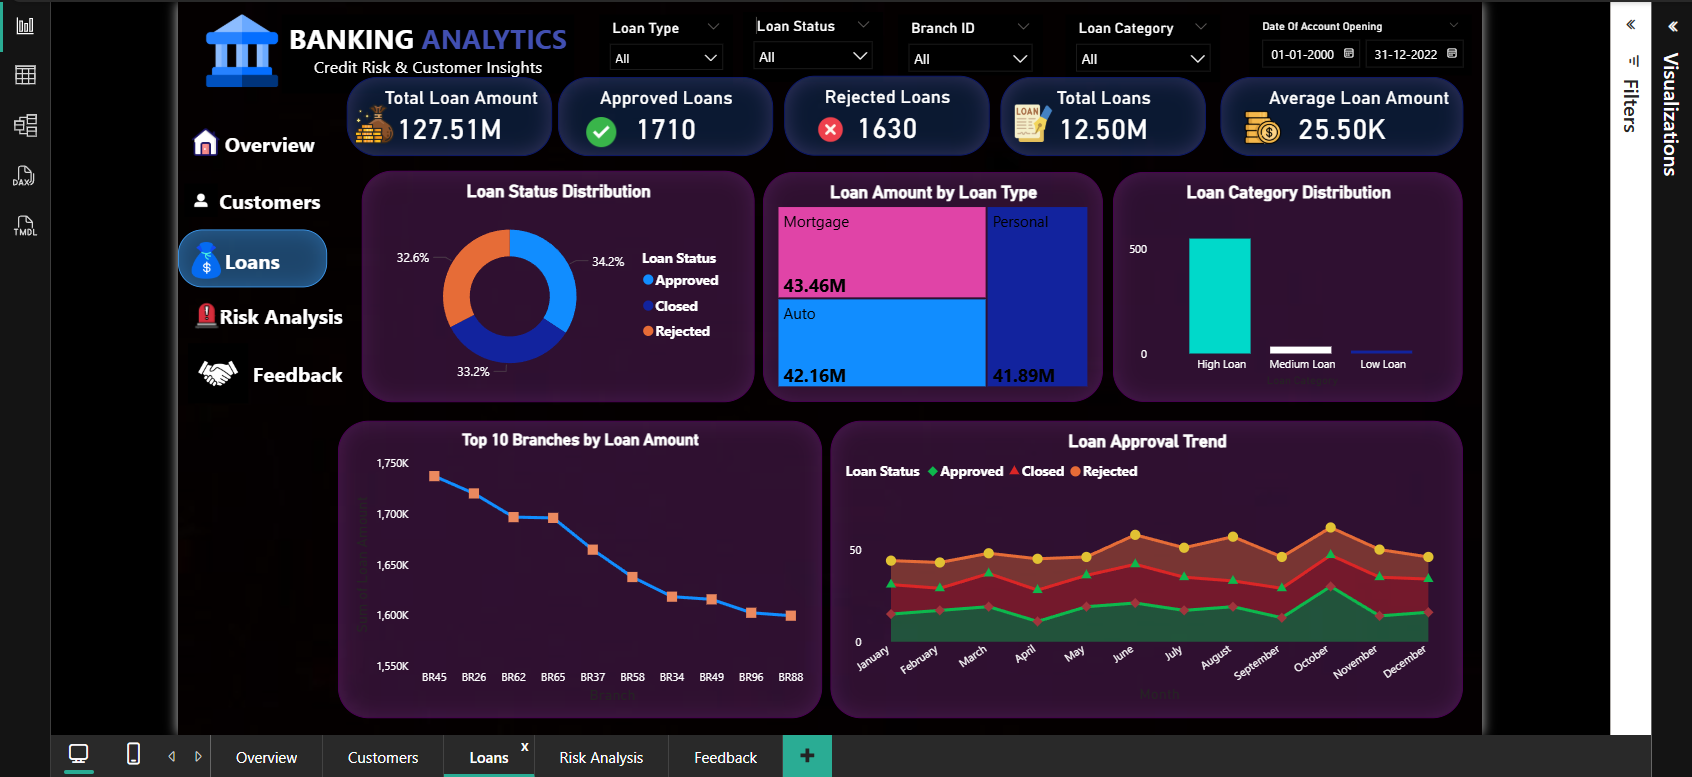

The page's visual inventory and layout, read from the dashboard file:
{"tool":"powerbi","page":{"name":"Loans","canvas":[1280,720],"ordinal":2},"visuals":[{"type":"textbox","box":[101.8,12.3,287.1,77.3],"z":0},{"type":"actionButton","box":[0,110.4,180.4,56.4],"z":1000},{"type":"actionButton","box":[0,336.2,165.6,56.4],"z":2000},{"type":"actionButton","box":[0,279.8,165.6,56.4],"z":3000},{"type":"actionButton","box":[0,223.3,146,56.4],"z":4000},{"type":"actionButton","box":[0,166.9,180.4,56.4],"z":5000},{"type":"image","box":[23.3,12.3,78.5,71.2],"z":6000},{"type":"image","box":[0,123.9,54,27],"z":7000},{"type":"image","box":[6.1,171.8,33.1,45.4],"z":8000},{"type":"image","box":[6.1,234.4,42.9,38],"z":9000},{"type":"image","box":[11,292,34.4,30.7],"z":10000},{"type":"image","box":[9.8,330.1,58.9,68.7],"z":11000},{"type":"slicer","fields":{"Values":["Banking_Analysis.Loan Type"]},"box":[413.5,12.3,131.3,68.7],"z":12000},{"type":"slicer","fields":{"Values":["Banking_Analysis.Loan Status"]},"box":[554.6,9.8,137.4,68.7],"z":13000},{"type":"slicer","fields":{"Values":["Banking_Analysis.Loan Category"]},"box":[871.2,12.3,152.1,66.3],"z":14000},{"type":"slicer","fields":{"Values":["Banking_Analysis.Branch ID"]},"box":[706.8,12.3,142.3,60.1],"z":15000},{"type":"slicer","fields":{"Values":["Banking_Analysis.Date Of Account Opening"]},"box":[1051.5,12.3,218.4,60.1],"z":16000},{"type":"card","title":"Total Loans","fields":{"Values":["Banking_Analysis.Total Loans"]},"box":[807.4,73.6,201.2,77.3],"z":17000},{"type":"card","title":"Total Loan Amount","fields":{"Values":["Banking_Analysis.Total Loan Amount"]},"box":[165.6,73.6,201.2,77.3],"z":18000},{"type":"card","title":"Rejected Loans","fields":{"Values":["Banking_Analysis.Rejected Loans"]},"box":[595.1,72.4,201.2,78.5],"z":19000},{"type":"card","title":"Approved Loans","fields":{"Values":["Banking_Analysis.Approved Loans"]},"box":[373,73.6,211,77.3],"z":20000},{"type":"card","title":"Average Loan Amount","fields":{"Values":["Banking_Analysis.Average Loan Amount"]},"box":[1023.3,73.6,238,77.3],"z":21000},{"type":"donutChart","title":"Loan Status Distribution","fields":{"Category":["Banking_Analysis.Loan Status"],"Y":["CountNonNull(Banking_Analysis.Loan ID)"]},"box":[180.4,165.6,385.3,227],"z":22000},{"type":"treemap","title":"Loan Amount by Loan Type","fields":{"Group":["Banking_Analysis.Loan Type"],"Values":["Sum(Banking_Analysis.Loan Amount)"]},"box":[574.2,166.9,333.7,225.8],"z":23000},{"type":"lineChart","title":"Top 10 Branches by Loan Amount","fields":{"Y":["Sum(Banking_Analysis.Loan Amount)"],"Category":["Banking_Analysis.Branch "]},"box":[157.1,411,474.8,292],"z":24000},{"type":"stackedAreaChart","title":"Loan Approval Trend","fields":{"Category":["Banking_Analysis.Approval/Rejection Date.Variation.Date Hierarchy.Month"],"Y":["CountNonNull(Banking_Analysis.Loan ID)"],"Series":["Banking_Analysis.Loan Status"]},"box":[640.5,411,620.9,292],"z":25000},{"type":"columnChart","title":"Loan Category Distribution","fields":{"Category":["Banking_Analysis.Loan Category"],"Y":["CountNonNull(Banking_Analysis.Loan ID)"]},"box":[917.8,166.9,343.6,225.8],"z":26000},{"type":"image","box":[165.6,100.6,54,38],"z":27000},{"type":"image","box":[808.6,100.6,62.6,36.8],"z":28000},{"type":"image","box":[395.1,112.9,40.5,29.4],"z":29000},{"type":"image","box":[620.9,108,39.3,34.4],"z":30000},{"type":"image","box":[1040.5,105.5,49.1,35.6],"z":31000}]}

Visuals, with their boxes on the page's 1280x720 design canvas (x1, y1, x2, y2). These are canvas units, not pixel positions in the 1692x777 screenshot, which may show the page scaled, cropped or inside an application window:
textbox: select_region(102, 12, 389, 90)
actionButton: select_region(0, 110, 180, 167)
actionButton: select_region(0, 336, 166, 393)
actionButton: select_region(0, 280, 166, 336)
actionButton: select_region(0, 223, 146, 280)
actionButton: select_region(0, 167, 180, 223)
image: select_region(23, 12, 102, 84)
image: select_region(0, 124, 54, 151)
image: select_region(6, 172, 39, 217)
image: select_region(6, 234, 49, 272)
image: select_region(11, 292, 45, 323)
image: select_region(10, 330, 69, 399)
slicer - Banking_Analysis.Loan Type: select_region(414, 12, 545, 81)
slicer - Banking_Analysis.Loan Status: select_region(555, 10, 692, 78)
slicer - Banking_Analysis.Loan Category: select_region(871, 12, 1023, 79)
slicer - Banking_Analysis.Branch ID: select_region(707, 12, 849, 72)
slicer - Banking_Analysis.Date Of Account Opening: select_region(1052, 12, 1270, 72)
"Total Loans" card: select_region(807, 74, 1009, 151)
"Total Loan Amount" card: select_region(166, 74, 367, 151)
"Rejected Loans" card: select_region(595, 72, 796, 151)
"Approved Loans" card: select_region(373, 74, 584, 151)
"Average Loan Amount" card: select_region(1023, 74, 1261, 151)
"Loan Status Distribution" donutChart: select_region(180, 166, 566, 393)
"Loan Amount by Loan Type" treemap: select_region(574, 167, 908, 393)
"Top 10 Branches by Loan Amount" lineChart: select_region(157, 411, 632, 703)
"Loan Approval Trend" stackedAreaChart: select_region(640, 411, 1261, 703)
"Loan Category Distribution" columnChart: select_region(918, 167, 1261, 393)
image: select_region(166, 101, 220, 139)
image: select_region(809, 101, 871, 137)
image: select_region(395, 113, 436, 142)
image: select_region(621, 108, 660, 142)
image: select_region(1040, 106, 1090, 141)
